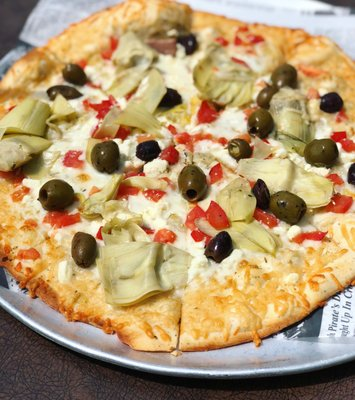sandwich: (0, 3, 354, 356)
